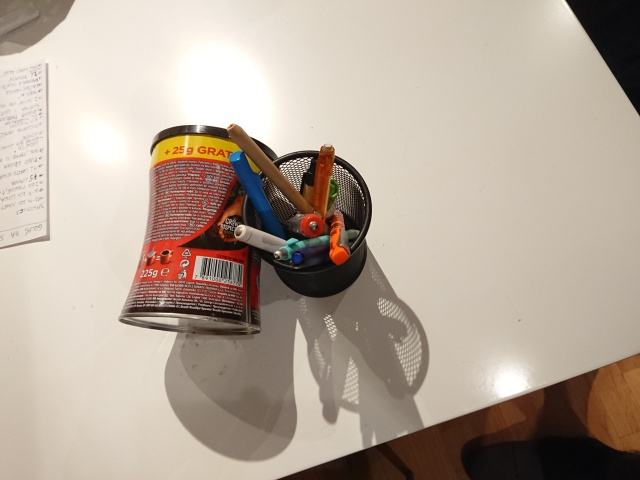Nescafe Classic 225g: (115, 122, 281, 338)
